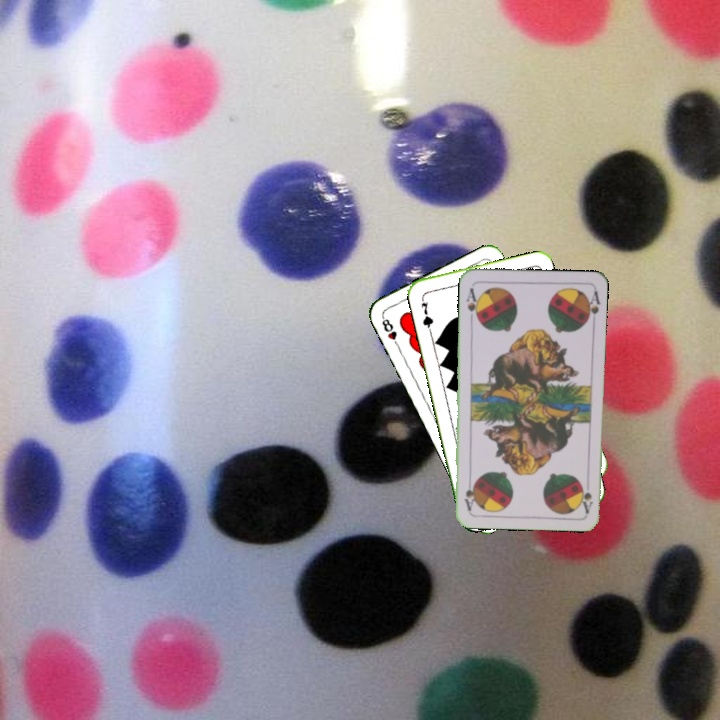G7: (417, 292, 436, 333)
H8: (378, 312, 402, 350)
SA: (462, 283, 482, 323), (577, 479, 596, 515)
